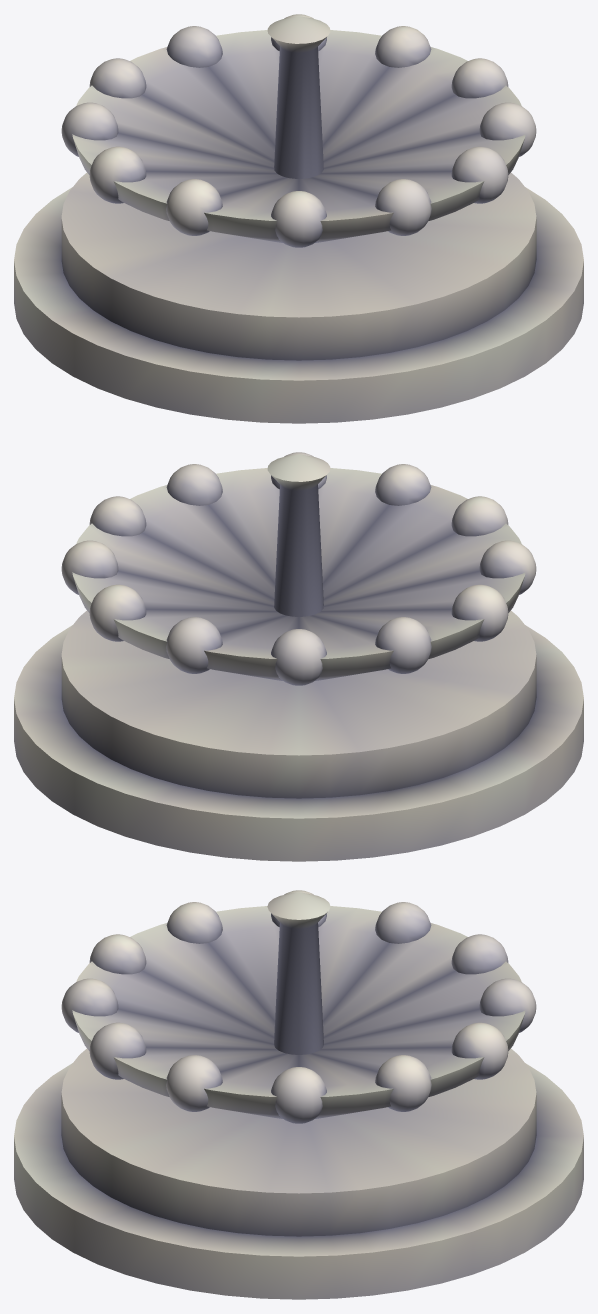
The model's file is dry-fountain.glb.
3 renders of one model, top to bottom at view 1: azimuth 30°, elevation 25°; view 2: azimuth 150°, elevation 25°; view 3: azimuth 270°, elevation 25°, orthographic.
Parts seen in each view (by area): view 1: body; view 2: body; view 3: body.
Part boxes in pixels (x1=…): body: x1=14, y1=14, x2=583, y2=423; body: x1=14, y1=452, x2=583, y2=861; body: x1=14, y1=890, x2=583, y2=1299.
Size of the model in its own units: 1.8 by 1 by 1.8.
